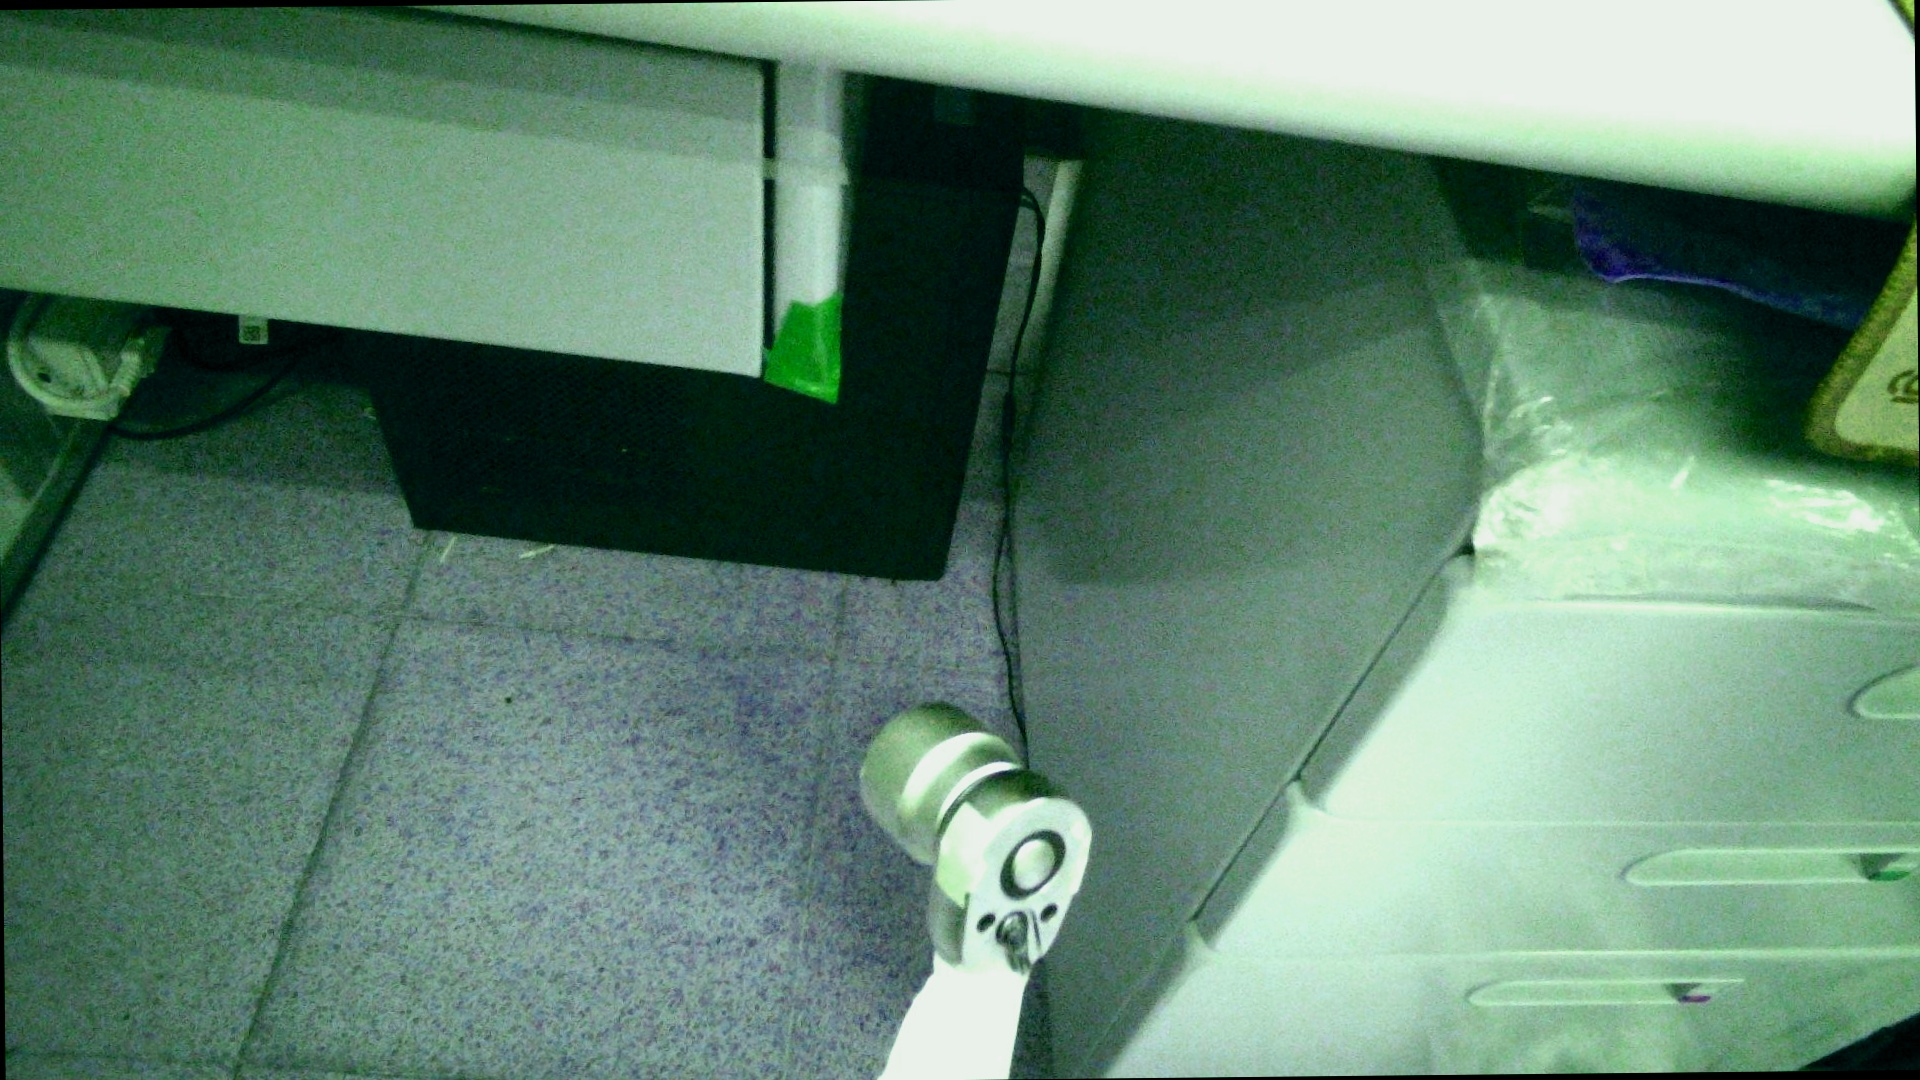wrench: (998, 825, 1063, 899)
